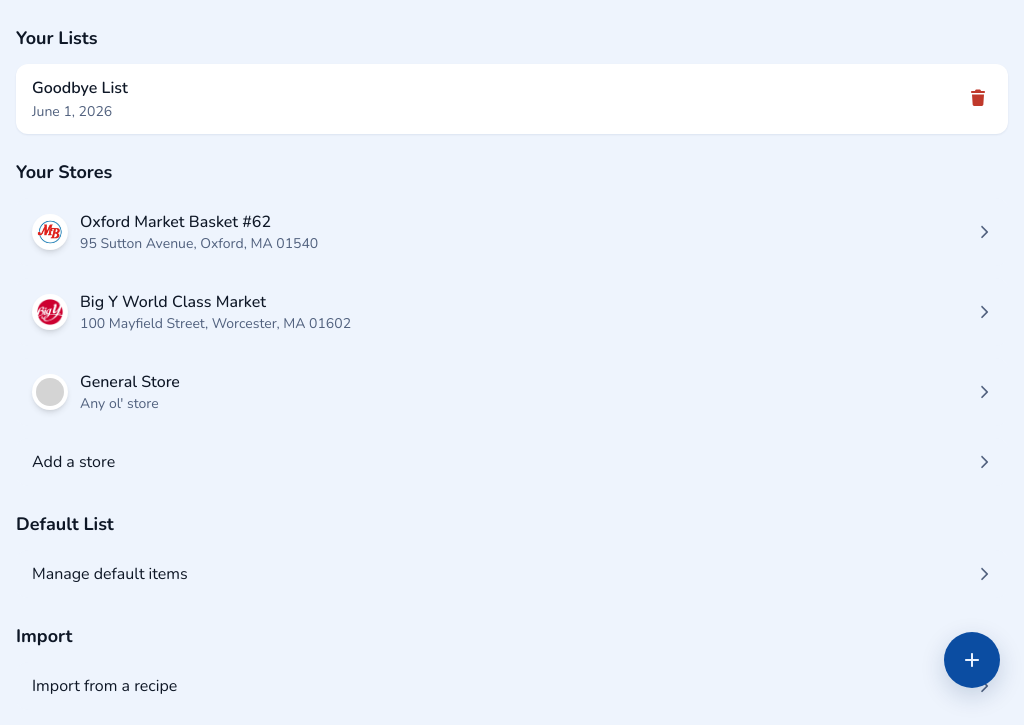
SettingsRoute › confirming the dialog removes the card from Your Lists
Expected: the text "Goodbye List" is shown, [32, 76, 128, 100]
Click the button named "Delete list: Goodbye List".
click(978, 99)  # box [964, 83, 992, 115]
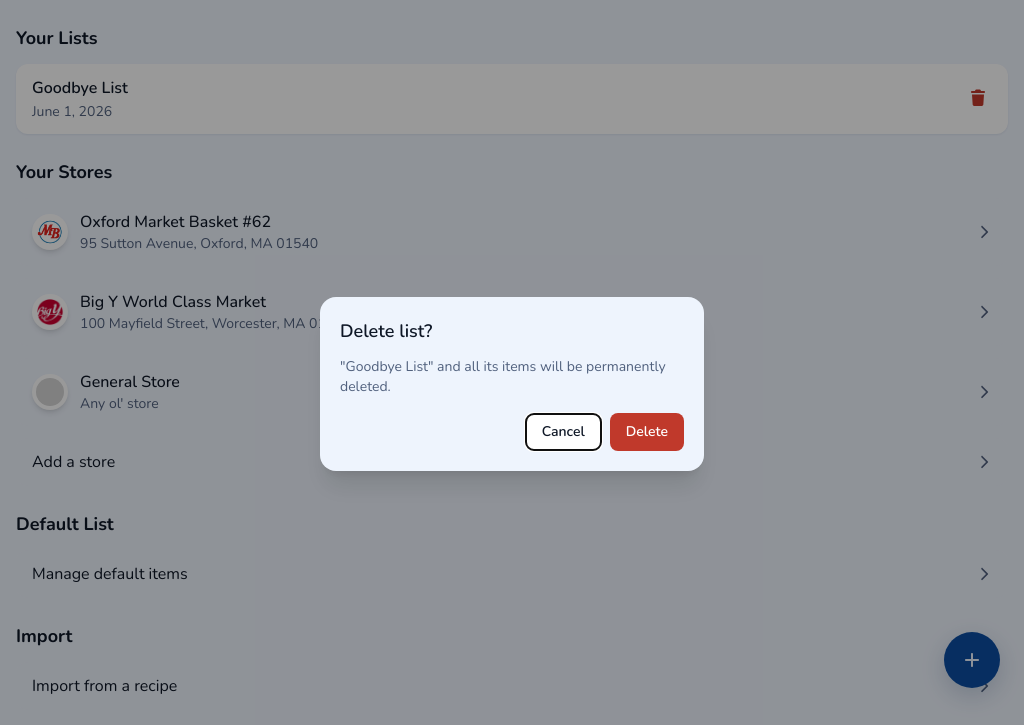
Click the button "Delete".
click(647, 432)  # box [610, 413, 684, 451]
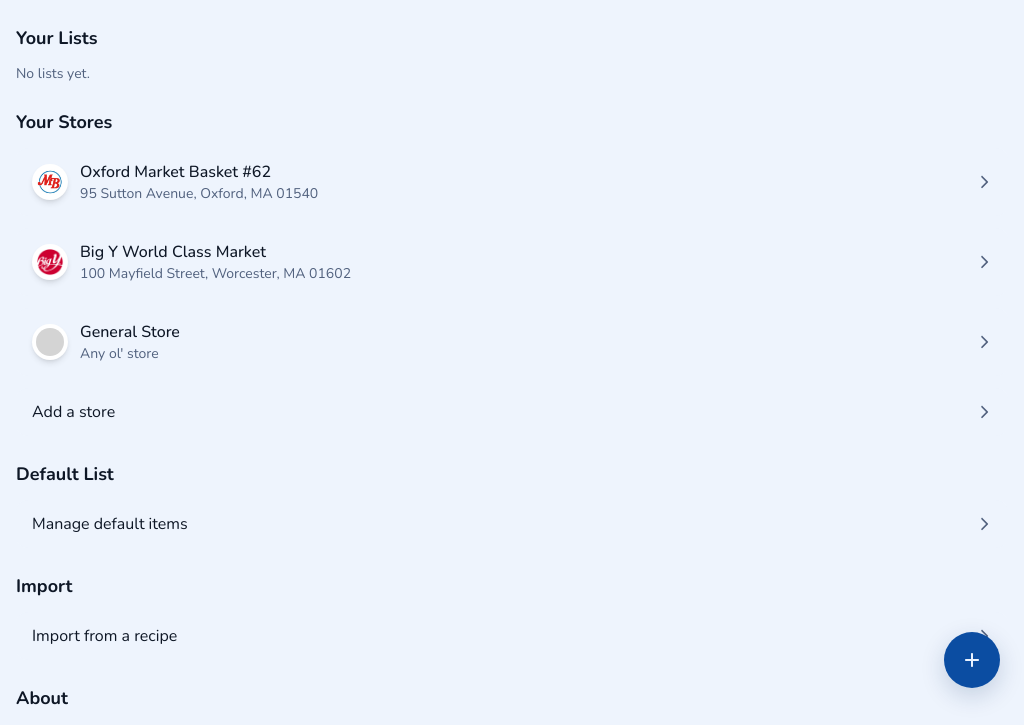
Result: the button "Goodbye List" is gone
